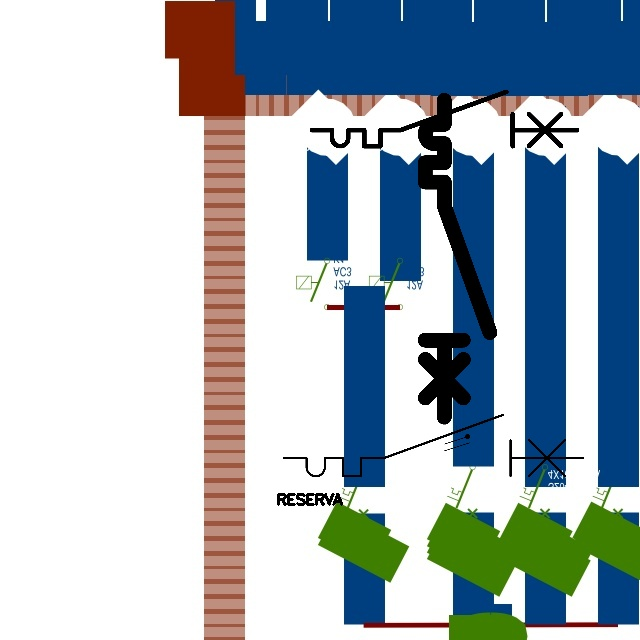interruptor_termomagnetico: (417, 92, 498, 425), (276, 407, 591, 484), (305, 85, 584, 153)
